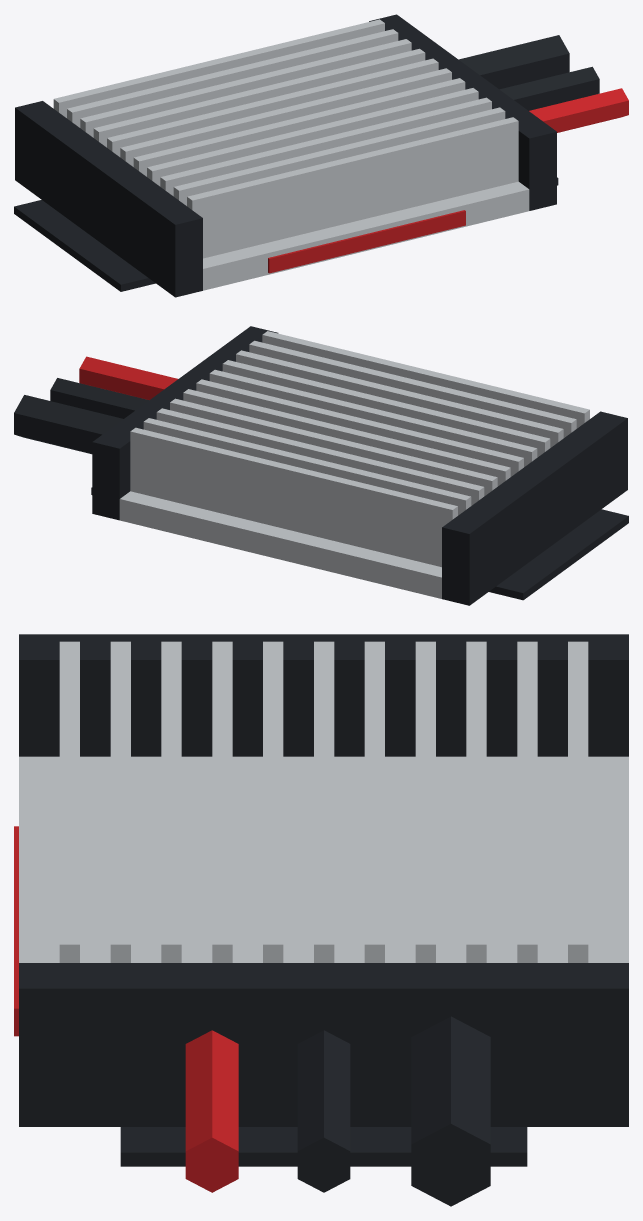
The model's file is redarc_bcdc1250d.far.glb.
3 views of the same model, one above another, from view 1: azimuth 30°, elevation 25°; view 2: azimuth 150°, elevation 25°; view 3: azimuth 270°, elevation 25° (orthographic). The views are drawn at different scales.
Parts seen in each view (by area): view 1: redarc_bcdc1250d; view 2: redarc_bcdc1250d; view 3: redarc_bcdc1250d.
Part boxes in pixels (x1=…): redarc_bcdc1250d: x1=14, y1=14, x2=628, y2=297; redarc_bcdc1250d: x1=14, y1=326, x2=628, y2=605; redarc_bcdc1250d: x1=14, y1=634, x2=628, y2=1206.
Bounding box in the file's own units: 0.227 × 0.037 × 0.121.
